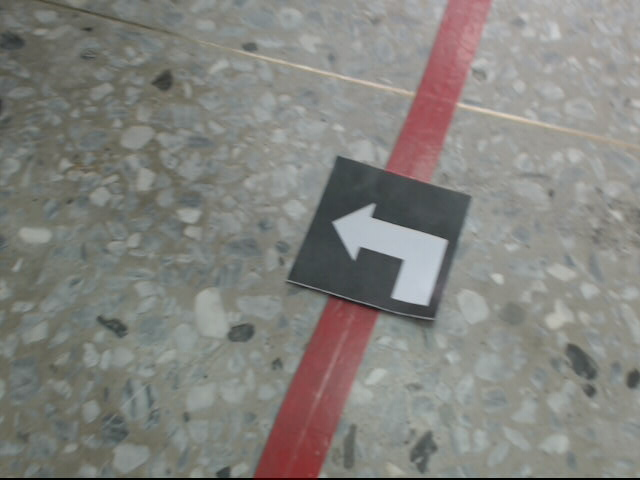left: (288, 154, 470, 321)
